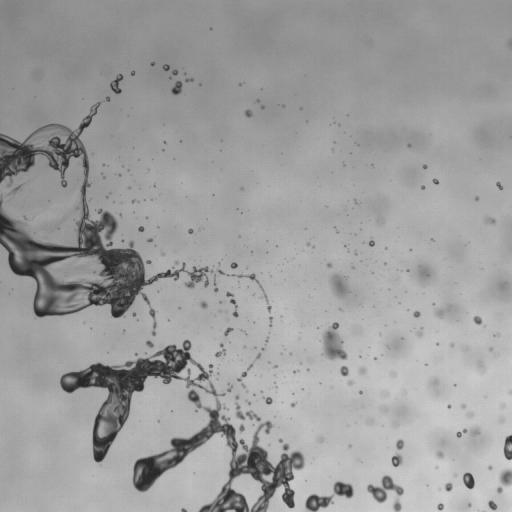droplet: (366, 475, 403, 511), (321, 322, 347, 359), (329, 273, 349, 298), (110, 74, 122, 93), (463, 472, 474, 489), (215, 343, 226, 357), (171, 81, 182, 94), (391, 453, 402, 466), (435, 308, 444, 318), (488, 500, 497, 510), (340, 366, 348, 376), (396, 439, 404, 449), (224, 327, 232, 336), (244, 109, 252, 117), (473, 316, 481, 324), (470, 428, 479, 435), (485, 217, 495, 223), (430, 378, 438, 385), (264, 397, 272, 404), (445, 483, 452, 491), (200, 301, 207, 308), (145, 341, 153, 347), (496, 182, 502, 189), (368, 239, 374, 246), (413, 311, 420, 317), (359, 367, 365, 374), (437, 451, 443, 458), (437, 503, 443, 510), (239, 424, 244, 432), (163, 64, 169, 70), (231, 262, 237, 268), (433, 178, 438, 184), (417, 330, 422, 336), (367, 419, 373, 424), (317, 437, 323, 442), (423, 272, 430, 276), (172, 70, 177, 75), (138, 226, 143, 231), (188, 228, 193, 233), (327, 262, 332, 267), (391, 372, 396, 377), (347, 380, 352, 385), (185, 78, 192, 81), (147, 238, 152, 242), (291, 402, 296, 406), (468, 412, 472, 417), (181, 508, 187, 511), (423, 164, 427, 168), (421, 185, 425, 189), (174, 261, 178, 265), (246, 400, 250, 404), (461, 404, 465, 408), (278, 438, 282, 442), (488, 465, 492, 469), (502, 403, 505, 408), (105, 97, 109, 100), (242, 383, 245, 387), (447, 405, 451, 408), (151, 62, 154, 65), (131, 71, 134, 74), (475, 197, 478, 200), (132, 199, 135, 202), (307, 242, 310, 245), (161, 252, 164, 255), (489, 347, 492, 350), (294, 370, 297, 373), (359, 390, 362, 393), (385, 392, 388, 395), (235, 396, 238, 399), (468, 503, 471, 506), (266, 337, 268, 341), (509, 390, 511, 394), (261, 106, 264, 108), (354, 200, 357, 202), (132, 313, 135, 315), (495, 334, 498, 336), (451, 343, 453, 346), (431, 238, 433, 240), (274, 366, 276, 368), (382, 408, 384, 410)
ligament: (0, 103, 212, 335), (61, 340, 303, 511), (227, 273, 271, 311), (305, 481, 353, 511), (235, 403, 260, 421), (497, 468, 511, 493), (226, 292, 238, 317), (237, 363, 253, 381), (51, 215, 66, 230), (503, 434, 511, 460), (456, 429, 466, 437), (11, 185, 20, 193), (478, 363, 484, 373), (215, 269, 224, 274), (228, 383, 232, 391), (256, 353, 261, 359), (214, 282, 217, 291), (269, 316, 272, 325), (509, 40, 511, 46)
